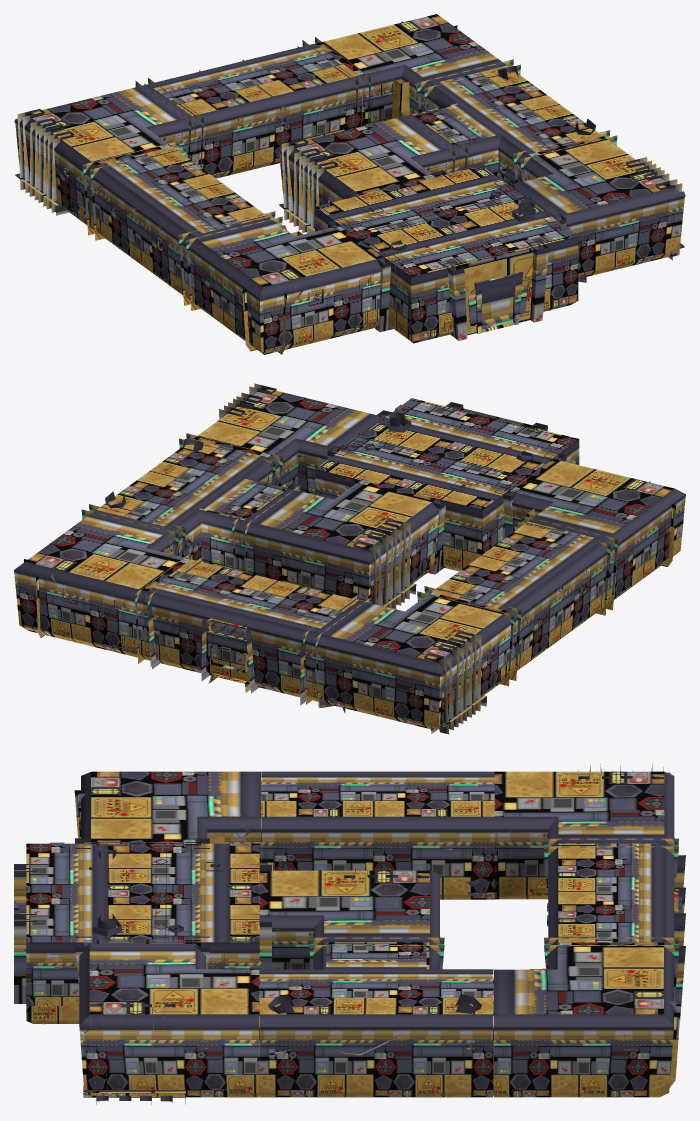
Rendered from Combined_Mesh_root_scene__20_a4a1e6c2__zombies2_diffuse_04_b80f3c78_c1f257.obj.
The picture shows the model from 3 angles, top to bottom: view 1: azimuth 30°, elevation 25°; view 2: azimuth 150°, elevation 25°; view 3: azimuth 270°, elevation 25°; orthographic projection. The views are drawn at different scales.
Size of the model in its own units: 51.83 by 9.64 by 57.56.
132 materials, 132 textured.
